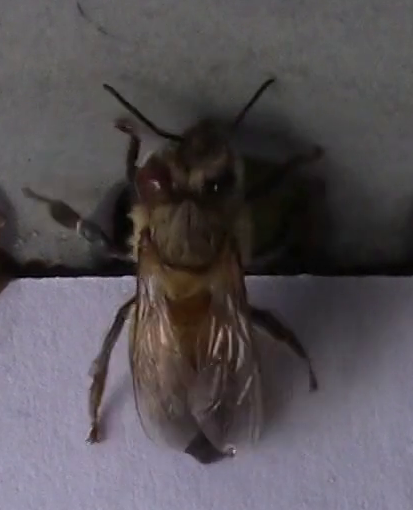Varroa destructor: (137, 160, 175, 200)
